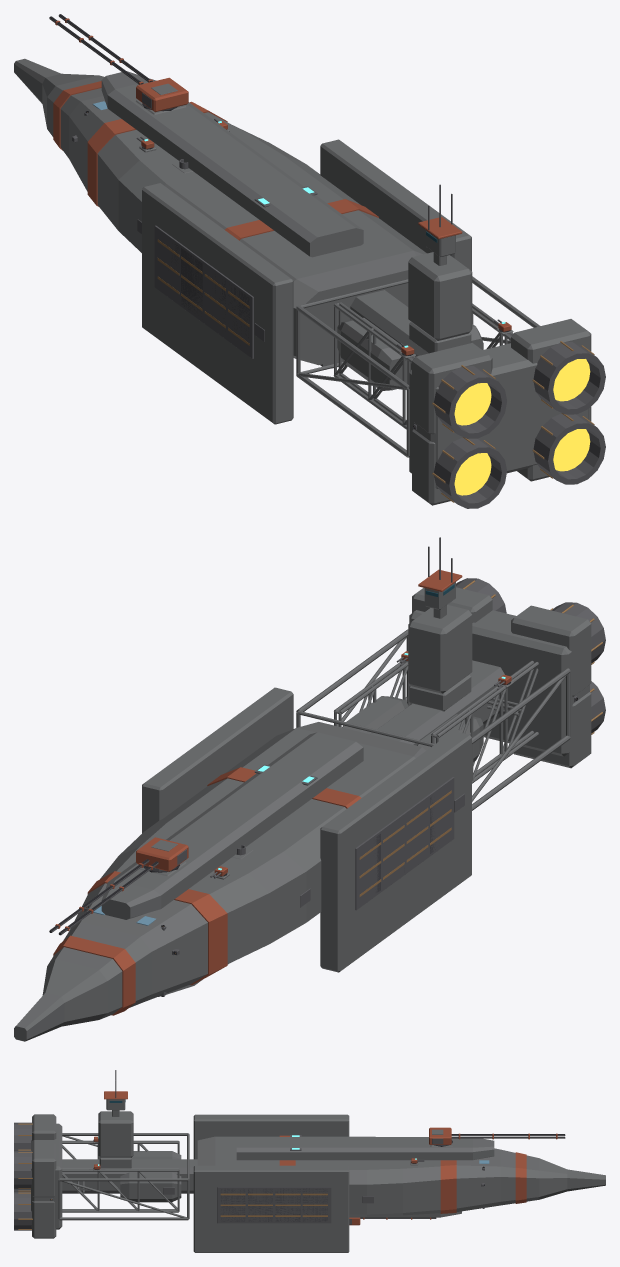
Rendered from mars_battleship_t5.glb.
The picture shows the model from 3 angles, top to bottom: view 1: azimuth 30°, elevation 25°; view 2: azimuth 150°, elevation 25°; view 3: azimuth 270°, elevation 25°; orthographic projection. The views are drawn at different scales.
Parts seen in each view (by area): view 1: FleetHull, mesh_turret_gun_1, mesh_recoil_gun_1; view 2: FleetHull, mesh_turret_gun_1, mesh_recoil_gun_1; view 3: FleetHull, mesh_recoil_gun_1, mesh_turret_gun_1.
Part boxes in pixels (x1,y1,x2,y2): FleetHull: (14, 58, 605, 508); mesh_turret_gun_1: (136, 77, 188, 112); mesh_recoil_gun_1: (49, 14, 152, 84); FleetHull: (14, 537, 605, 1041); mesh_turret_gun_1: (136, 837, 188, 871); mesh_recoil_gun_1: (49, 859, 158, 935); FleetHull: (14, 1070, 605, 1252); mesh_recoil_gun_1: (451, 1133, 565, 1139); mesh_turret_gun_1: (429, 1127, 451, 1145).
Bounding box in the file's own units: 254 × 319 × 1103.
